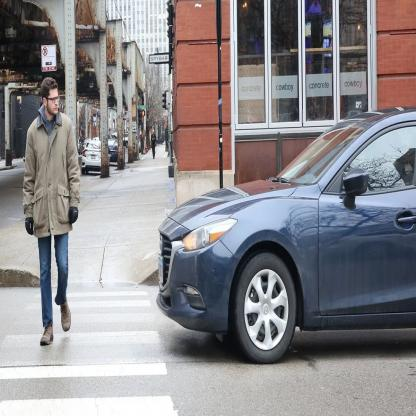Crosswalk: (0, 292, 178, 414)
